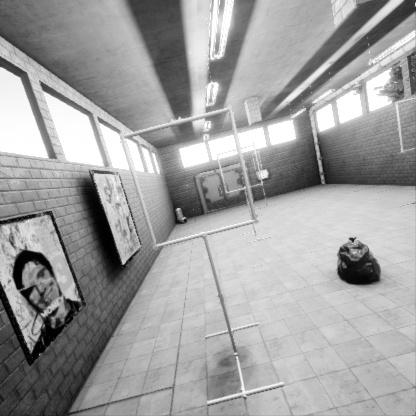gate: (123, 173, 260, 310), (217, 223, 265, 273), (398, 265, 416, 328), (251, 239, 264, 265)
